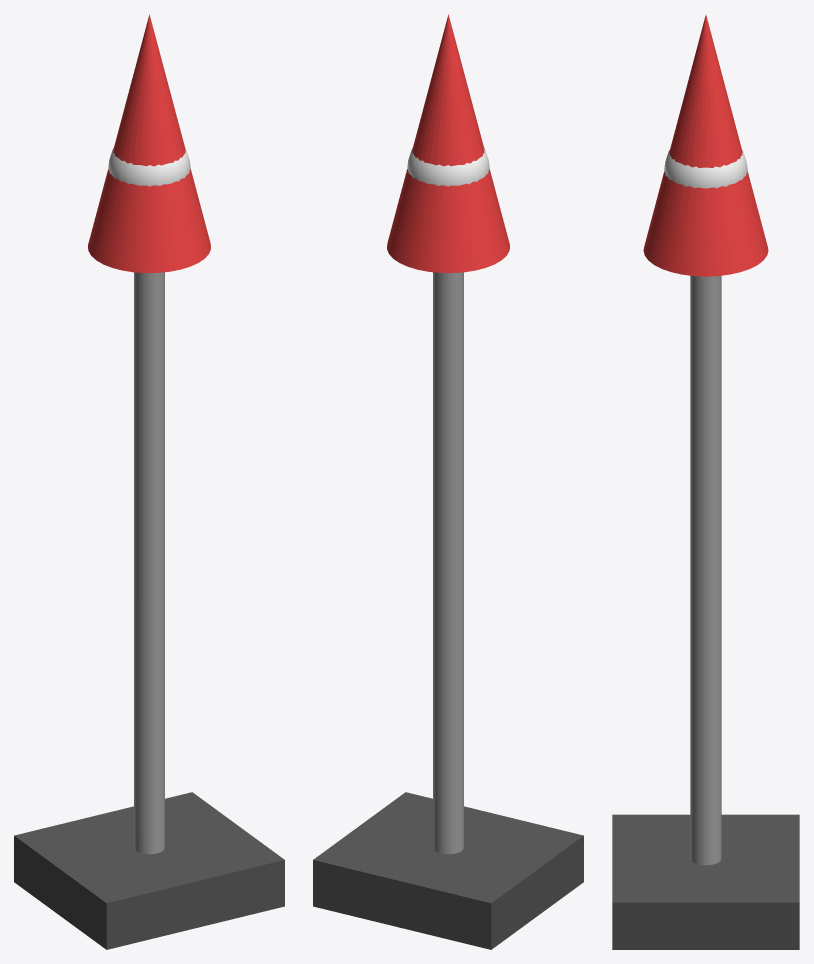
3 renders of one model, left to right at view 1: azimuth 30°, elevation 25°; view 2: azimuth 150°, elevation 25°; view 3: azimuth 270°, elevation 25°, orthographic.
Parts seen in each view (by area): view 1: basePlate, pole, bulbHull, bulbBody; view 2: basePlate, pole, bulbHull, bulbBody; view 3: basePlate, pole, bulbHull, bulbBody.
Boxes of the visible parts, bbox=[...] form: basePlate: bbox=[14, 792, 284, 949]; pole: bbox=[134, 272, 164, 854]; bulbHull: bbox=[88, 14, 210, 273]; bulbBody: bbox=[108, 148, 190, 186]; basePlate: bbox=[313, 792, 583, 949]; pole: bbox=[433, 272, 463, 854]; bulbHull: bbox=[387, 14, 509, 273]; bulbBody: bbox=[407, 148, 489, 186]; basePlate: bbox=[612, 814, 799, 949]; pole: bbox=[690, 275, 721, 865]; bulbHull: bbox=[643, 15, 768, 276]; bulbBody: bbox=[664, 150, 747, 188].
Size of the model in its own units: 0.2 by 0.944 by 0.18.
